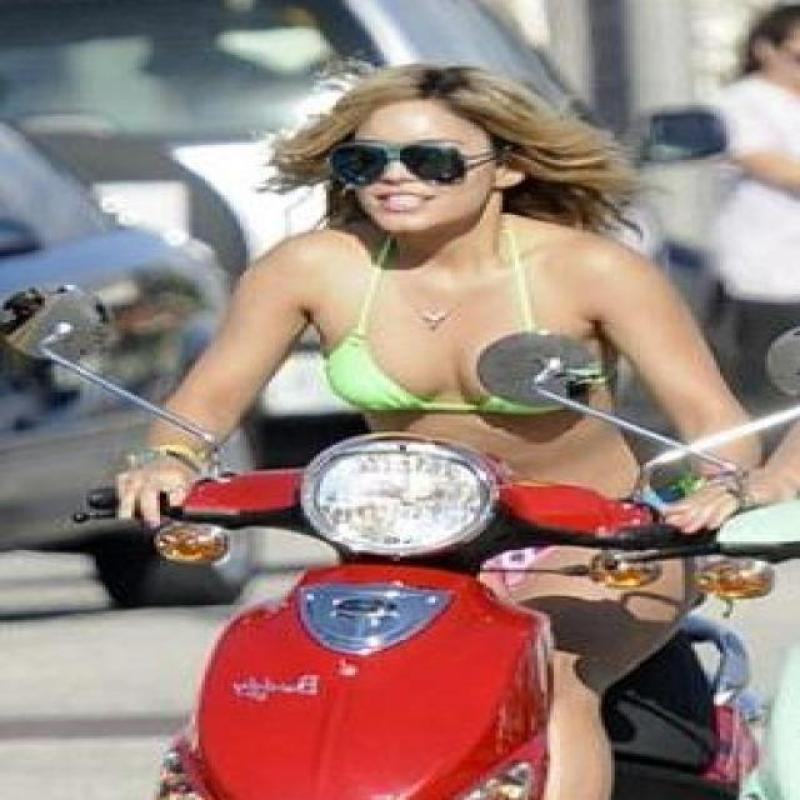nohelmet: (299, 44, 530, 248)
